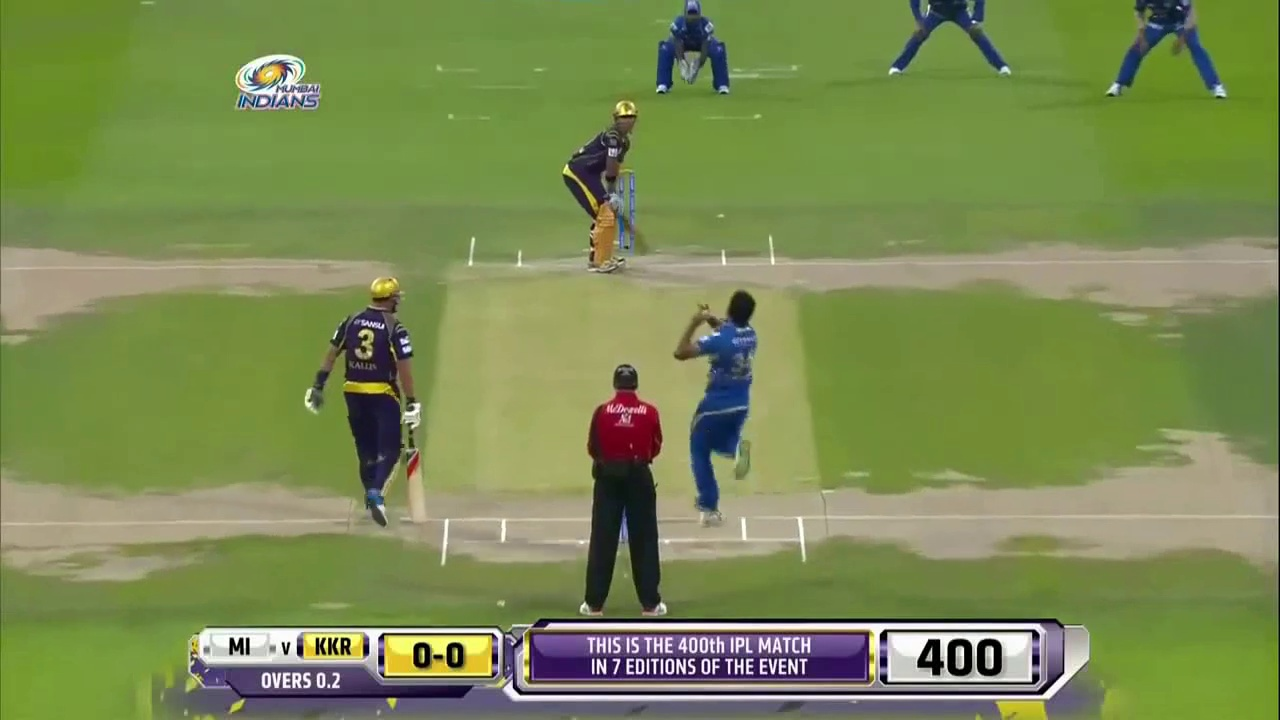bat: (404, 431, 428, 525)
